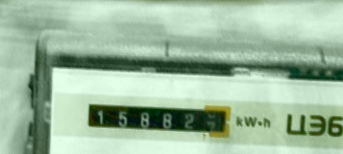1: (94, 109, 105, 127)
2: (182, 112, 194, 130)
5: (115, 110, 128, 128)
7: (204, 120, 216, 134)
8: (138, 111, 150, 129), (161, 113, 172, 129)
screen: (79, 93, 237, 143)
